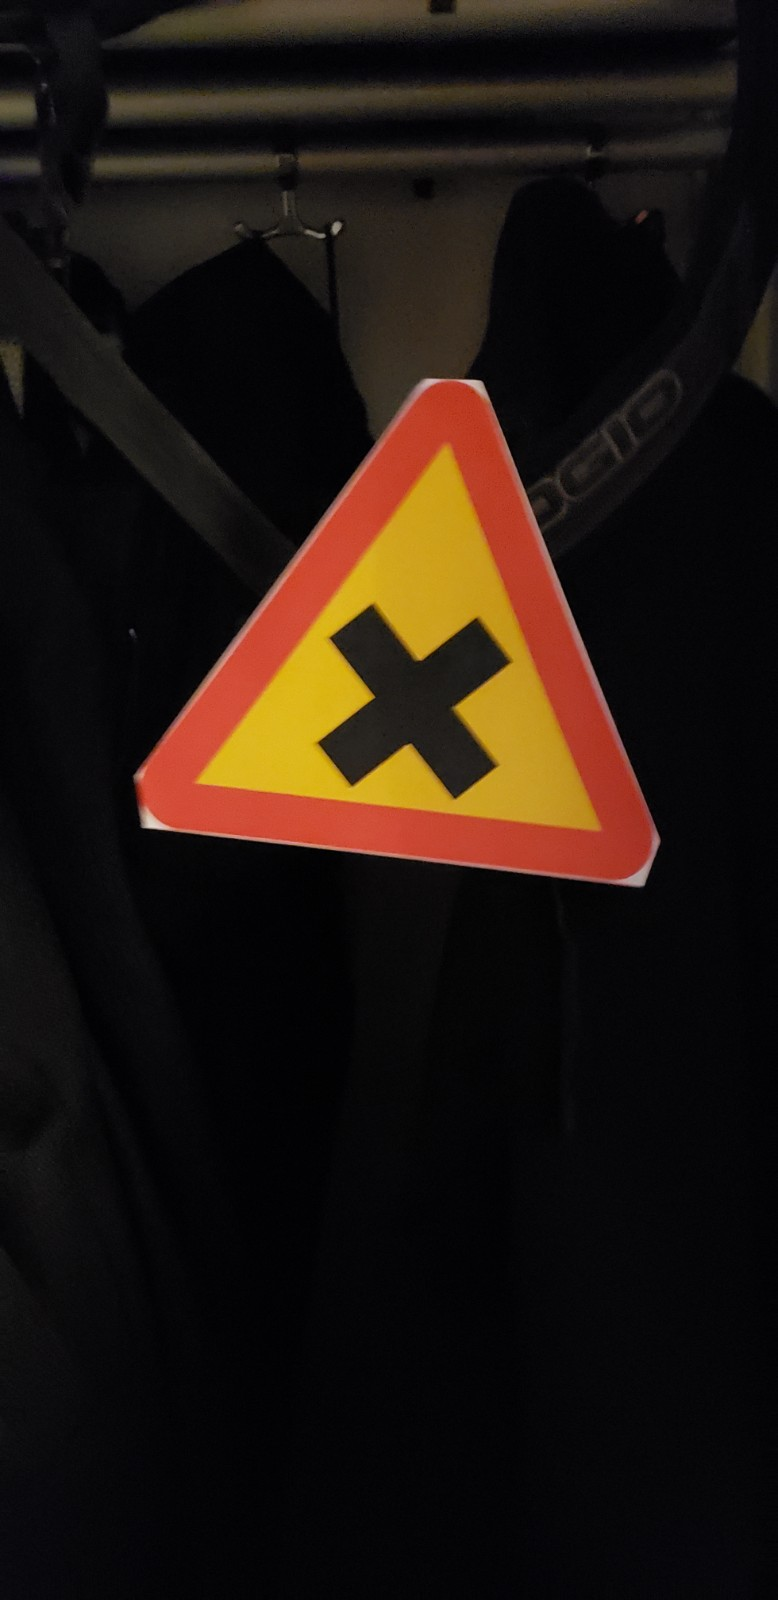junction: (66, 327, 718, 958)
